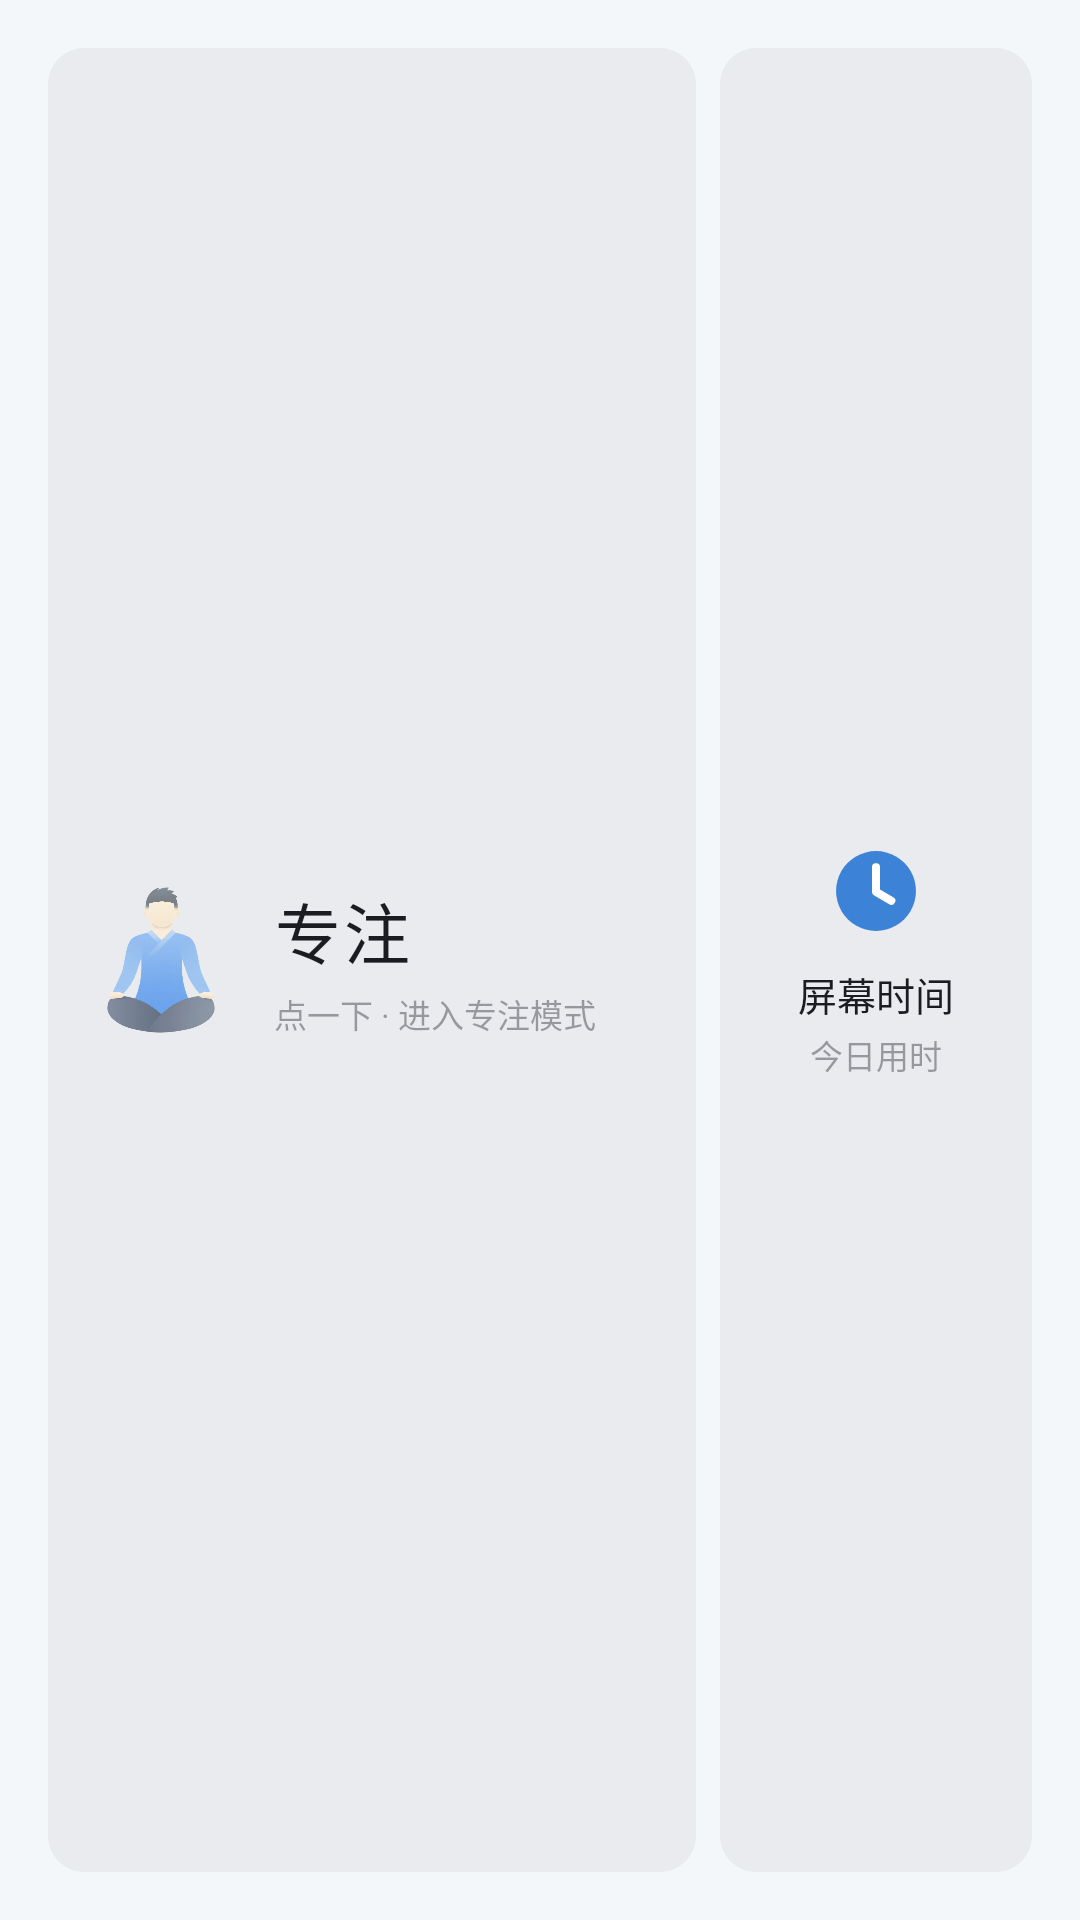

Where to tap for icons on this 1080 × 1920 app screen, as (x=x, y=y):
clock: (x=876, y=891)
